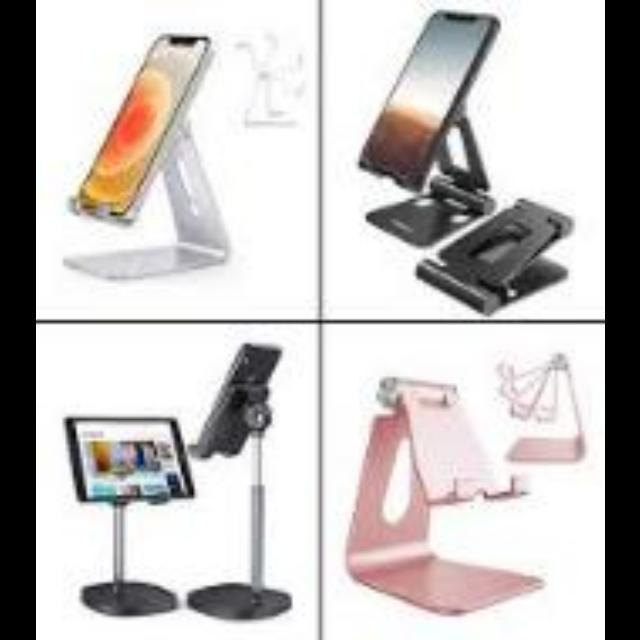PhoneUse: (359, 12, 527, 184), (74, 44, 204, 226), (61, 412, 205, 510), (186, 340, 294, 468)
